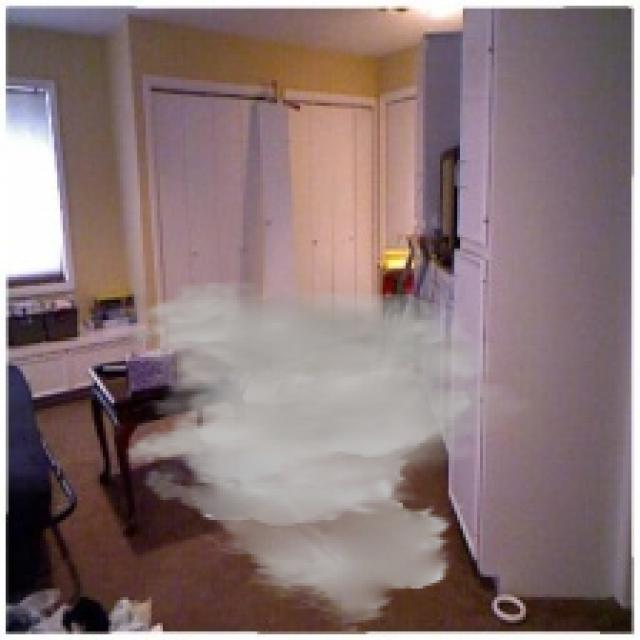smoke: (123, 280, 540, 634)
